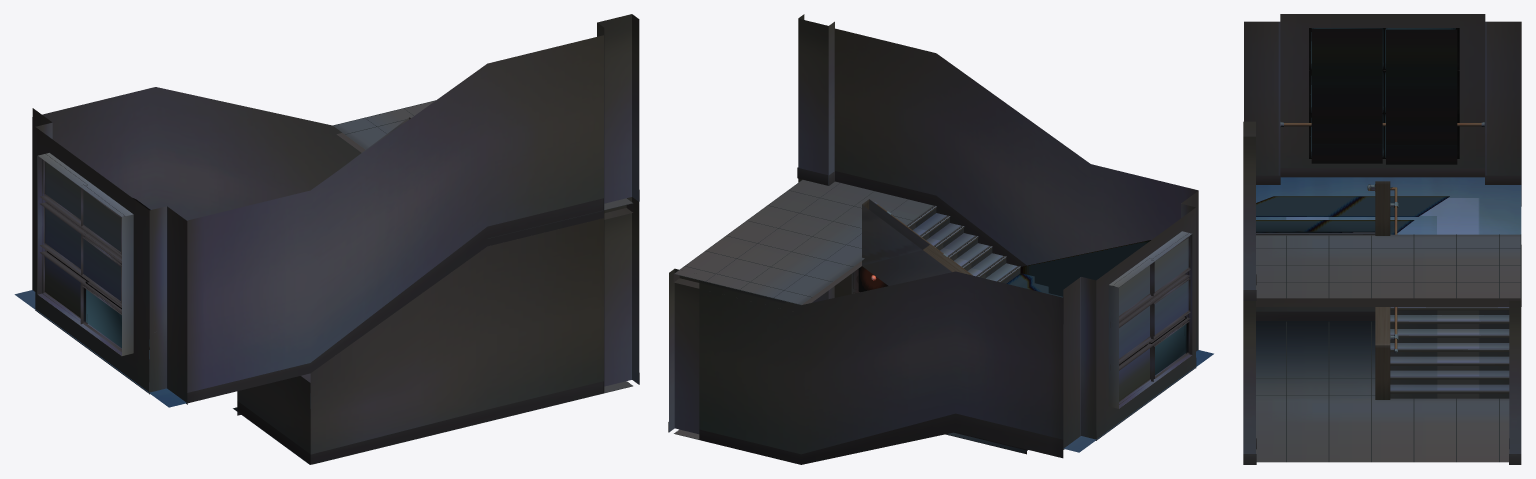
The model's file is JpsStairs_lowfloorA_night.FBX.
The picture shows the model from 3 angles, left to right: view 1: azimuth 30°, elevation 25°; view 2: azimuth 150°, elevation 25°; view 3: azimuth 270°, elevation 25°; orthographic projection. The views are drawn at different scales.
Visible parts, largest first — view 1: Sta_LowF_A_wallB_nig, Sta_LowF_A_window_nig, Sta_LowF_A_wallF_nig, Sta_LowF_A_stairs_nig, Sta_LowF_A_beam_add_nig; view 2: Sta_LowF_A_wallF_nig, Sta_LowF_A_wallB_nig, Sta_LowF_A_stairs_nig, Sta_LowF_A_window_nig, Sta_LowF_A_spotB_nig, Sta_LowF_A_beam_add_nig; view 3: Sta_LowF_A_stairs_nig, Sta_LowF_A_window_nig, Sta_LowF_A_beam01_add_nig, Sta_LowF_A_spotF_nig, Sta_LowF_A_wallB_nig, Sta_LowF_A_baseboards_nig, Sta_LowF_A_wallF_nig, Sta_LowF_A_beam_add_nig.
Boxes of the visible parts, bbox=[...] form: Sta_LowF_A_wallB_nig: bbox=[187, 14, 639, 464]; Sta_LowF_A_window_nig: bbox=[32, 108, 187, 403]; Sta_LowF_A_wallF_nig: bbox=[32, 87, 361, 289]; Sta_LowF_A_stairs_nig: bbox=[14, 100, 633, 464]; Sta_LowF_A_beam_add_nig: bbox=[47, 251, 121, 347]; Sta_LowF_A_wallF_nig: bbox=[668, 268, 1063, 464]; Sta_LowF_A_wallB_nig: bbox=[797, 14, 1198, 302]; Sta_LowF_A_stairs_nig: bbox=[673, 179, 1213, 454]; Sta_LowF_A_window_nig: bbox=[1063, 191, 1198, 448]; Sta_LowF_A_spotB_nig: bbox=[1020, 240, 1150, 297]; Sta_LowF_A_beam_add_nig: bbox=[1119, 316, 1186, 375]; Sta_LowF_A_stairs_nig: bbox=[1256, 177, 1521, 462]; Sta_LowF_A_window_nig: bbox=[1244, 14, 1521, 175]; Sta_LowF_A_beam01_add_nig: bbox=[1311, 28, 1457, 164]; Sta_LowF_A_spotF_nig: bbox=[1256, 196, 1449, 234]; Sta_LowF_A_wallB_nig: bbox=[1243, 121, 1256, 464]; Sta_LowF_A_baseboards_nig: bbox=[1256, 168, 1521, 184]; Sta_LowF_A_wallF_nig: bbox=[1509, 149, 1521, 464]; Sta_LowF_A_beam_add_nig: bbox=[1309, 28, 1459, 158].
Size of the model in its own units: 826 by 607 by 461.
